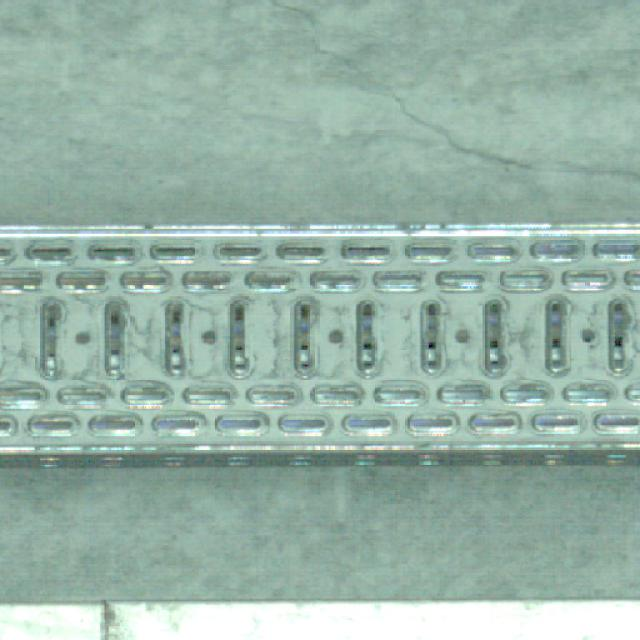Diagonal: (262, 0, 639, 193)
